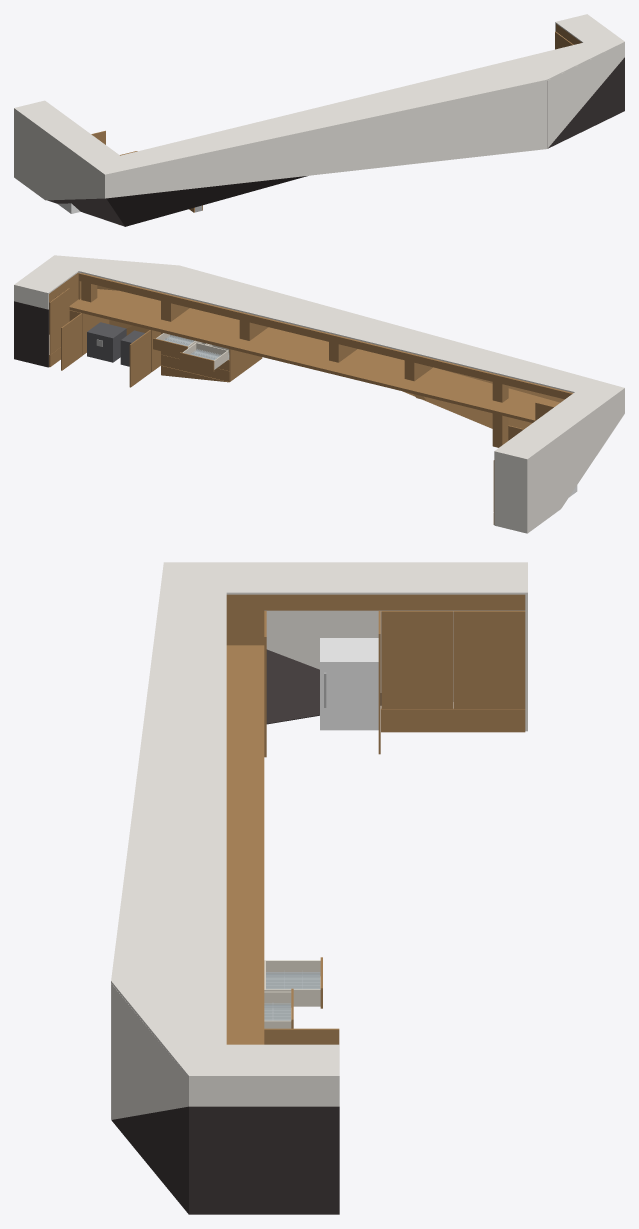
3 renders of one model, top to bottom at view 1: azimuth 30°, elevation 25°; view 2: azimuth 150°, elevation 25°; view 3: azimuth 270°, elevation 25°, orthographic. The views are drawn at different scales.
Parts seen in each view (by area): view 1: Stone_Front_A, Stone_Top_0, Stone_L_side, Stone_Front_B, Stone_Slope_dark, Stone_Top_1, Stone_Front_B_dark, Stone_Top_2, Stone_Slope_dark_Lside; view 2: Stone_Top_0, Second_Top_Desk, Stone_L_side, Wood_Fascia, Stone_Top_1, Interior_Lining, Stone_L_back, Stone_R_back_dark, Safe_2, Stone_Top_2, Wood_Cabinet_Door_Bay6_2_open, Wood_Cabinet_Door_Bay6_1_open (+10 smaller); view 3: Stone_Top_0, Stone_R_end_dark, Second_Top_Desk, Stone_Top_1, Door_Lreturn_4, Door_Lreturn_3, Stone_Front_B, Fridge, Stone_L_side, L_return_fixed_top, Stone_R_end_band, Stone_Front_B_dark (+8 smaller).
Part boxes in pixels (x1,y1,x2,y2): Stone_Front_A: [105, 81, 546, 198]; Stone_Top_0: [89, 35, 624, 175]; Stone_L_side: [14, 109, 104, 200]; Stone_Front_B: [547, 43, 624, 148]; Stone_Slope_dark: [106, 176, 307, 226]; Stone_Top_1: [14, 100, 119, 163]; Stone_Front_B_dark: [548, 57, 624, 148]; Stone_Top_2: [555, 14, 615, 42]; Stone_Slope_dark_Lside: [47, 198, 124, 226]; Stone_Top_0: [44, 255, 624, 400]; Second_Top_Desk: [69, 289, 559, 422]; Stone_L_side: [526, 389, 624, 533]; Wood_Fascia: [78, 273, 572, 399]; Stone_Top_1: [494, 392, 608, 460]; Interior_Lining: [79, 273, 573, 428]; Stone_L_back: [494, 452, 527, 533]; Stone_R_back_dark: [14, 301, 48, 367]; Safe_2: [87, 322, 126, 362]; Stone_Top_2: [14, 262, 78, 294]; Wood_Cabinet_Door_Bay6_2_open: [61, 313, 82, 370]; Wood_Cabinet_Door_Bay6_1_open: [129, 330, 150, 387]; Stone_Top_0: [111, 562, 226, 1078]; Stone_R_end_dark: [189, 1106, 339, 1214]; Second_Top_Desk: [226, 645, 264, 1044]; Stone_Top_1: [226, 562, 527, 594]; Door_Lreturn_4: [453, 611, 525, 709]; Door_Lreturn_3: [381, 611, 452, 709]; Stone_Front_B: [111, 984, 188, 1119]; Fridge: [320, 638, 378, 730]; Stone_L_side: [264, 610, 524, 701]; L_return_fixed_top: [264, 594, 525, 610]; Stone_R_end_band: [189, 1078, 339, 1106]; Stone_Front_B_dark: [111, 1106, 188, 1214].
Size of the model in its own units: 9.68 by 1.22 by 3.32.
